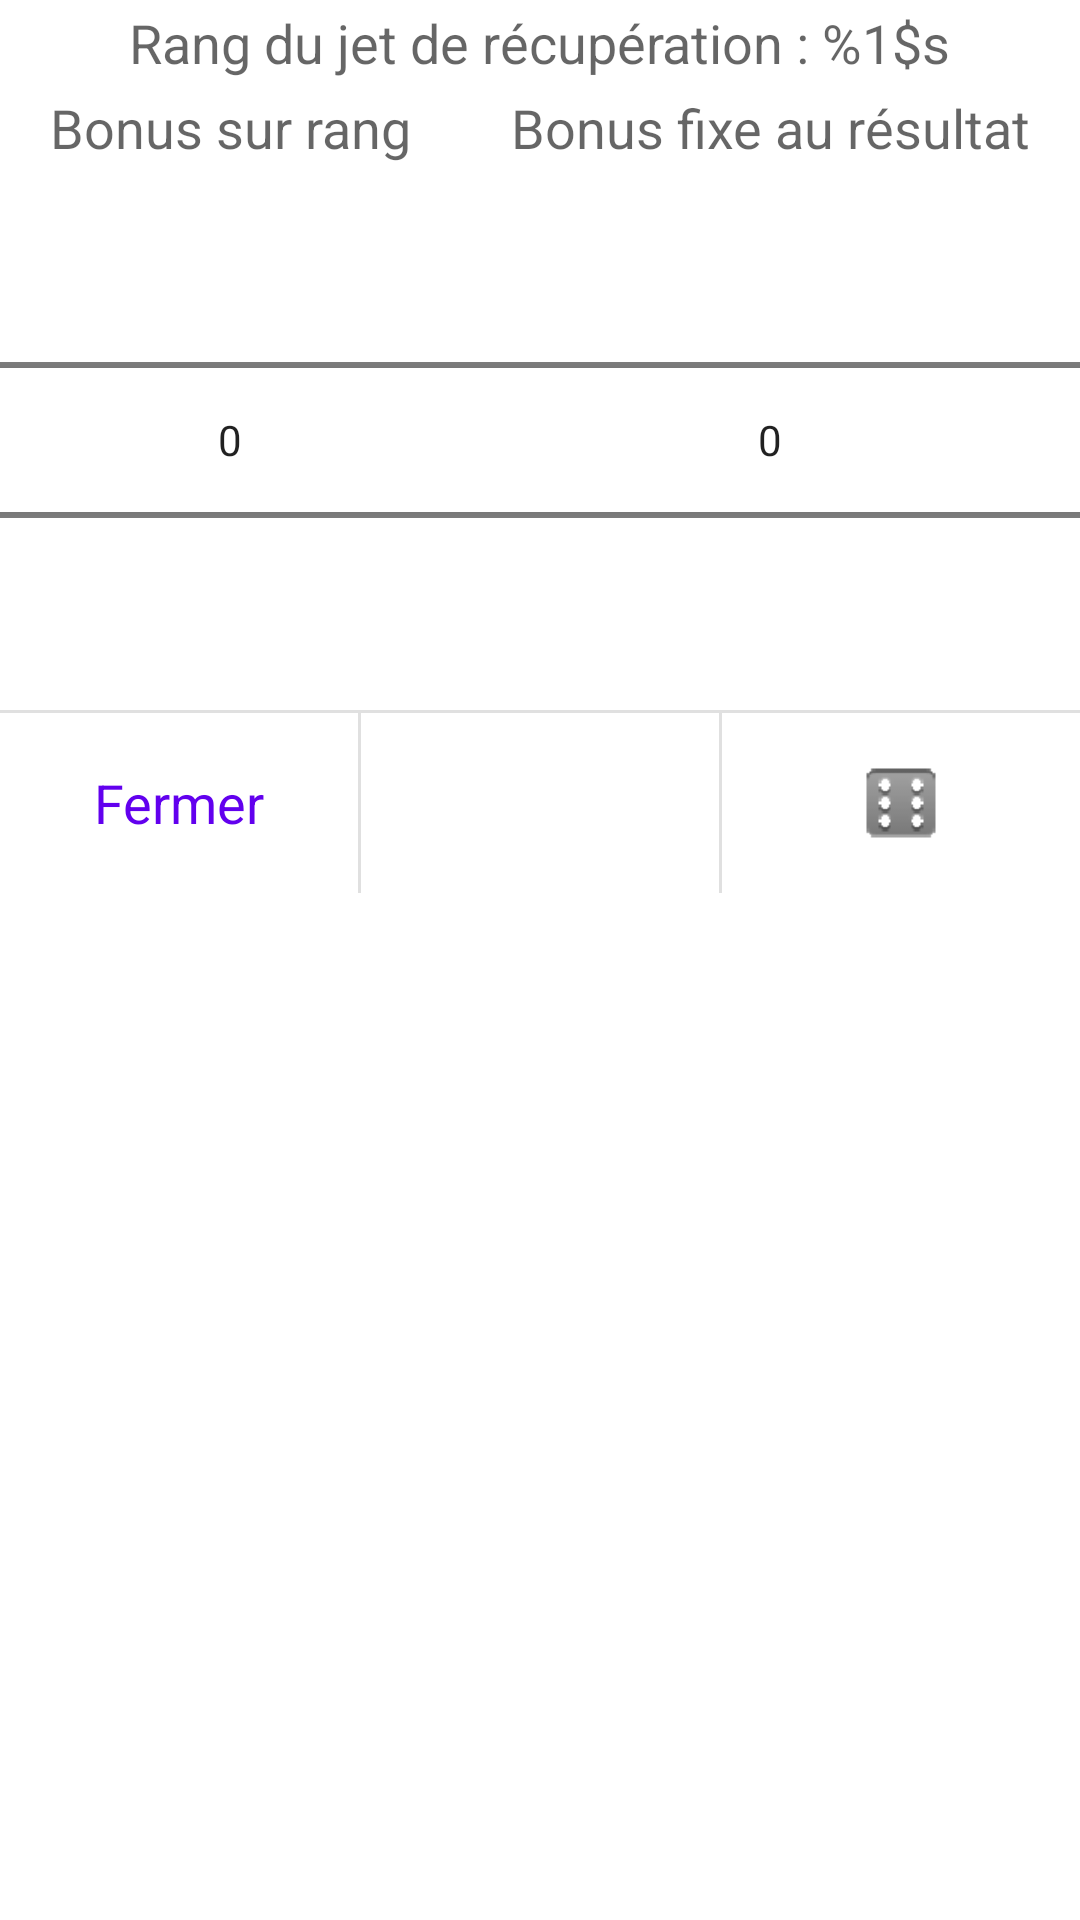

Screen size 1080x1920. Icon name, then its center in pixels as (x=x, y=y):
Lancer les dés: (x=901, y=803)
